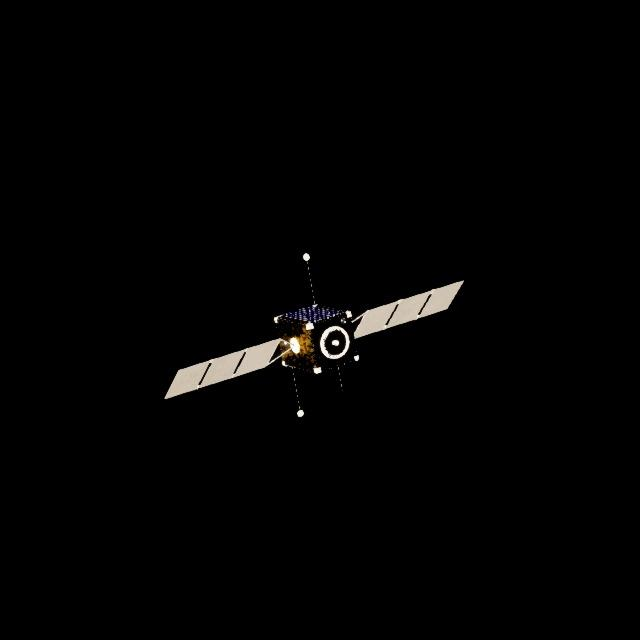medium_debris: (168, 256, 464, 414)
